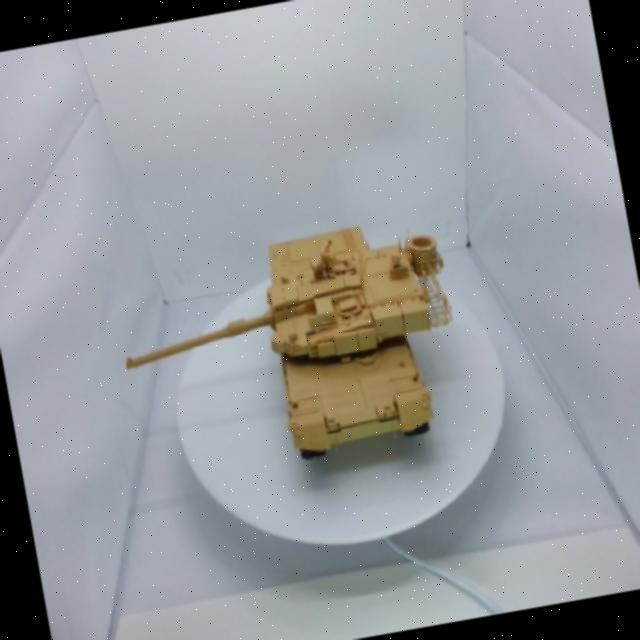korea tank: (92, 165, 516, 522)
